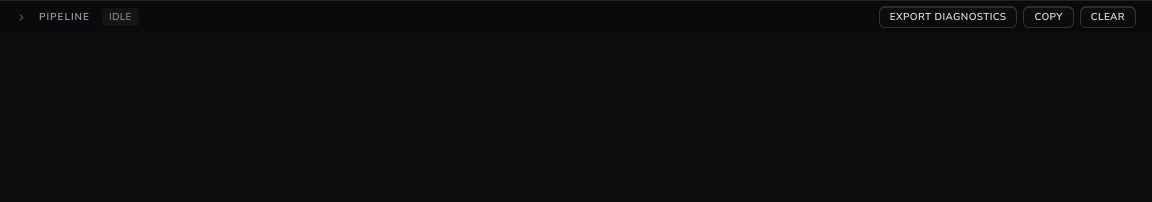
Scenario: applies a burst of ordinary rows in one batch rather than one render per event
Click the button with aria-label "Pipeline log" at coordinates (64, 17), box [0,1,1151,33]
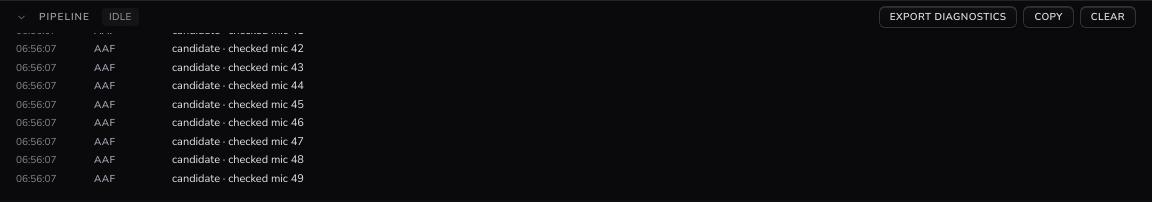
Result: the text "candidate · checked mic 49" is shown at [172,170,304,186]
